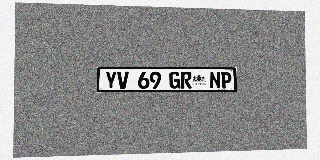plate: (97, 66, 237, 92)
